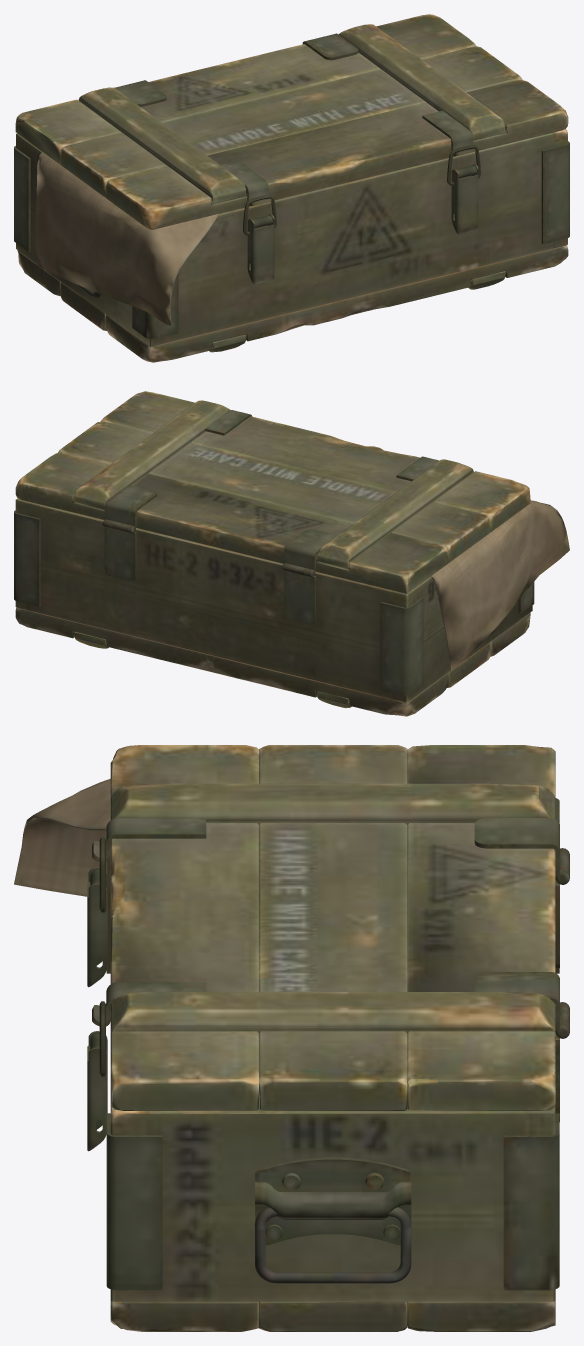
Rendered from crate.glb.
The picture shows the model from 3 angles, top to bottom: view 1: azimuth 30°, elevation 25°; view 2: azimuth 150°, elevation 25°; view 3: azimuth 270°, elevation 25°; orthographic projection. The views are drawn at different scales.
Parts seen in each view (by area): view 1: old_military_crate_lid_a; view 2: old_military_crate_lid_a; view 3: old_military_crate_lid_a.
Boxes of the visible parts, bbox=[...] form: old_military_crate_lid_a: bbox=[14, 14, 569, 362]; old_military_crate_lid_a: bbox=[14, 391, 569, 716]; old_military_crate_lid_a: bbox=[14, 745, 569, 1331].
Size of the model in its own units: 0.8154 by 0.3009 by 0.5376.
Materials: 1 (1 with a texture image).
